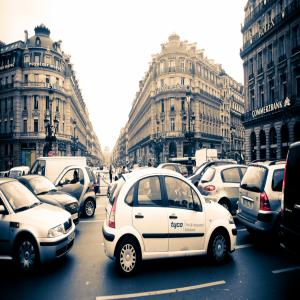Vehicle-registration-plate: (244, 200, 253, 211), (69, 233, 75, 244), (73, 214, 79, 222)
